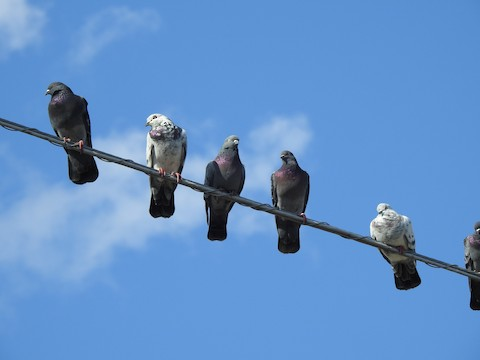pigeon: (42, 77, 102, 186), (139, 109, 192, 225), (200, 129, 250, 250), (366, 202, 426, 294), (265, 145, 312, 258), (462, 220, 477, 317)
